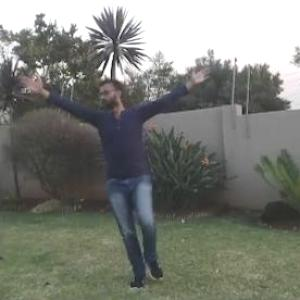takeoff: (1, 39, 248, 288)
